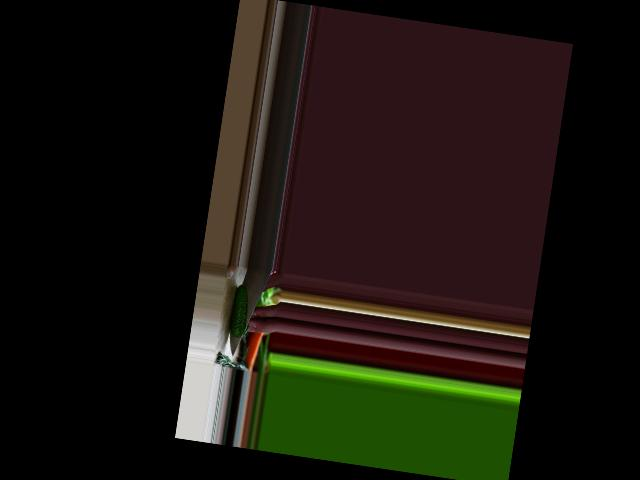cucumber: (227, 284, 251, 339)
